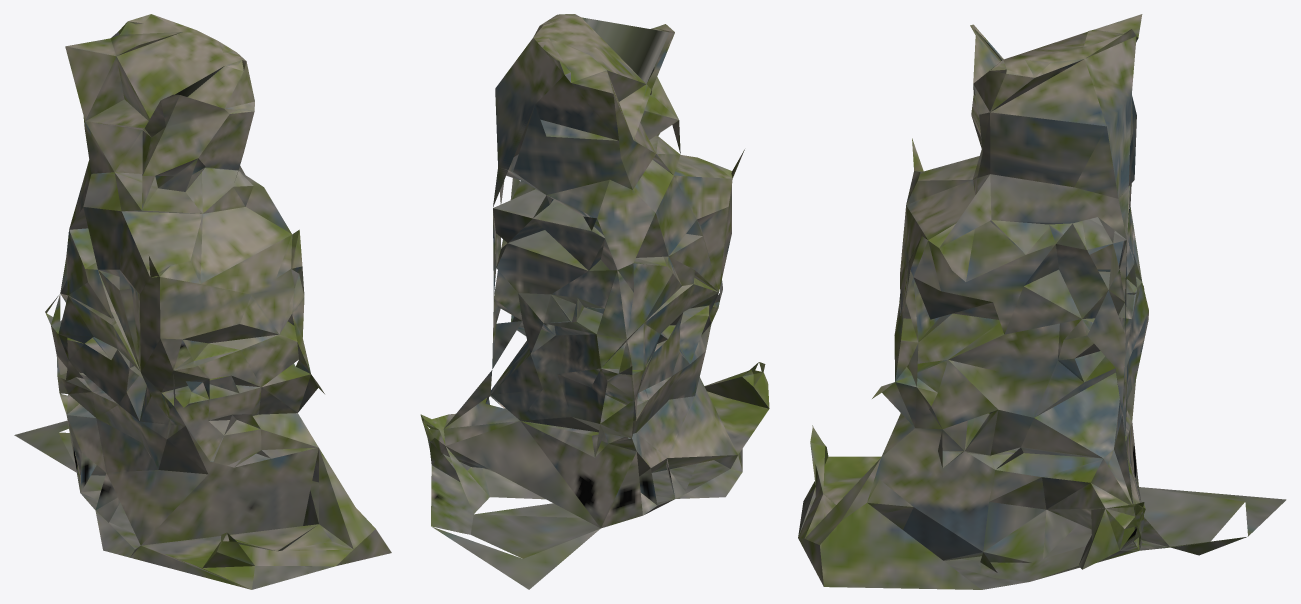
Rendered from cityTower_lo.glb.
3 renders of one model, left to right at view 1: azimuth 30°, elevation 25°; view 2: azimuth 150°, elevation 25°; view 3: azimuth 270°, elevation 25°, orthographic. The views are drawn at different scales.
Parts seen in each view (by area): view 1: output_unwrapped; view 2: output_unwrapped; view 3: output_unwrapped.
Boxes of the visible parts, <box> form: output_unwrapped: <box>14,14,391,589</box>; output_unwrapped: <box>420,14,769,589</box>; output_unwrapped: <box>798,14,1286,589</box>.
Bounding box in the file's own units: 0.859 × 1.66 × 1.46.
1 material, 1 textured.
